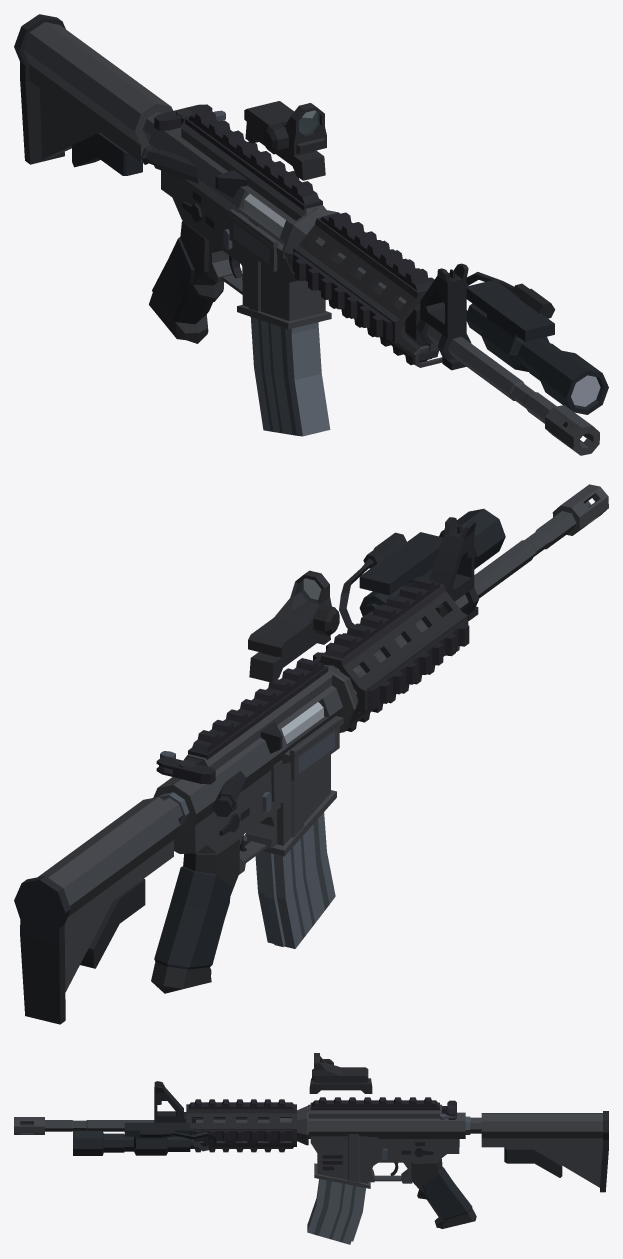
The picture shows the model from 3 angles, top to bottom: view 1: azimuth 30°, elevation 25°; view 2: azimuth 150°, elevation 25°; view 3: azimuth 270°, elevation 25°; orthographic projection. The views are drawn at different scales.
Visible parts, largest first — view 1: SM_Wep_Preset_A_Rifle_01, SM_Wep_Mod_Flashlight_01, SM_Wep_Preset_A_Rifle_01_Mag, SM_Wep_Mod_Reddot_01, SM_Wep_Preset_A_Rifle_01_Charge, SM_Wep_Preset_A_Rifle_01_Slide; view 2: SM_Wep_Preset_A_Rifle_01, SM_Wep_Preset_A_Rifle_01_Mag, SM_Wep_Mod_Flashlight_01, SM_Wep_Mod_Reddot_01, SM_Wep_Preset_A_Rifle_01_Charge, SM_Wep_Preset_A_Rifle_01_Slide; view 3: SM_Wep_Preset_A_Rifle_01, SM_Wep_Mod_Flashlight_01, SM_Wep_Preset_A_Rifle_01_Mag, SM_Wep_Mod_Reddot_01, SM_Wep_Preset_A_Rifle_01_Charge.
Part boxes in pixels (<box>): SM_Wep_Preset_A_Rifle_01: <box>14,14,599,455</box>; SM_Wep_Mod_Flashlight_01: <box>466,272,608,414</box>; SM_Wep_Preset_A_Rifle_01_Mag: <box>250,317,330,436</box>; SM_Wep_Mod_Reddot_01: <box>244,101,326,180</box>; SM_Wep_Preset_A_Rifle_01_Charge: <box>154,104,225,130</box>; SM_Wep_Preset_A_Rifle_01_Slide: <box>244,194,285,234</box>; SM_Wep_Preset_A_Rifle_01: <box>14,484,608,1024</box>; SM_Wep_Preset_A_Rifle_01_Mag: <box>255,812,335,948</box>; SM_Wep_Mod_Flashlight_01: <box>339,508,505,628</box>; SM_Wep_Mod_Reddot_01: <box>248,570,339,682</box>; SM_Wep_Preset_A_Rifle_01_Charge: <box>156,751,215,784</box>; SM_Wep_Preset_A_Rifle_01_Slide: <box>281,702,324,743</box>; SM_Wep_Preset_A_Rifle_01: <box>14,1081,608,1228</box>; SM_Wep_Mod_Flashlight_01: <box>73,1122,216,1155</box>; SM_Wep_Preset_A_Rifle_01_Mag: <box>307,1179,365,1244</box>; SM_Wep_Mod_Reddot_01: <box>309,1053,372,1093</box>; SM_Wep_Preset_A_Rifle_01_Charge: <box>439,1100,456,1119</box>.
Bounding box in the file's own units: 0.1407 × 0.3567 × 1.03.
2 materials, 1 textured.
